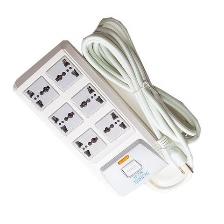three_eye_plug: (10, 33, 175, 201)
